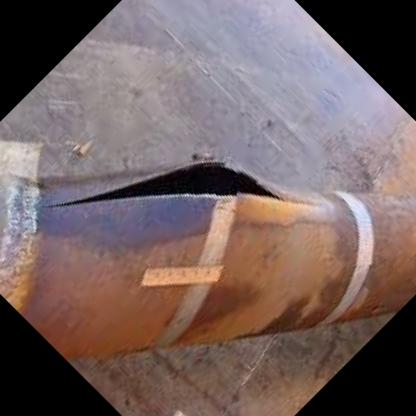burst: (39, 165, 316, 234)
